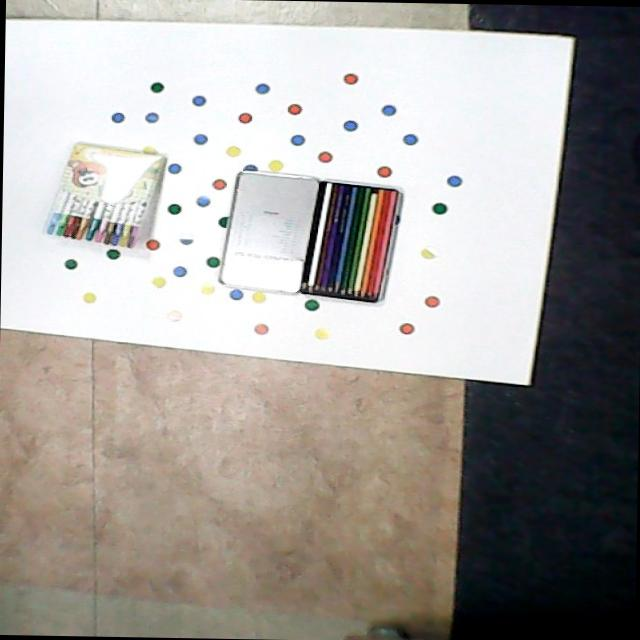color: (291, 177, 417, 307)
signpen: (32, 125, 179, 258)
